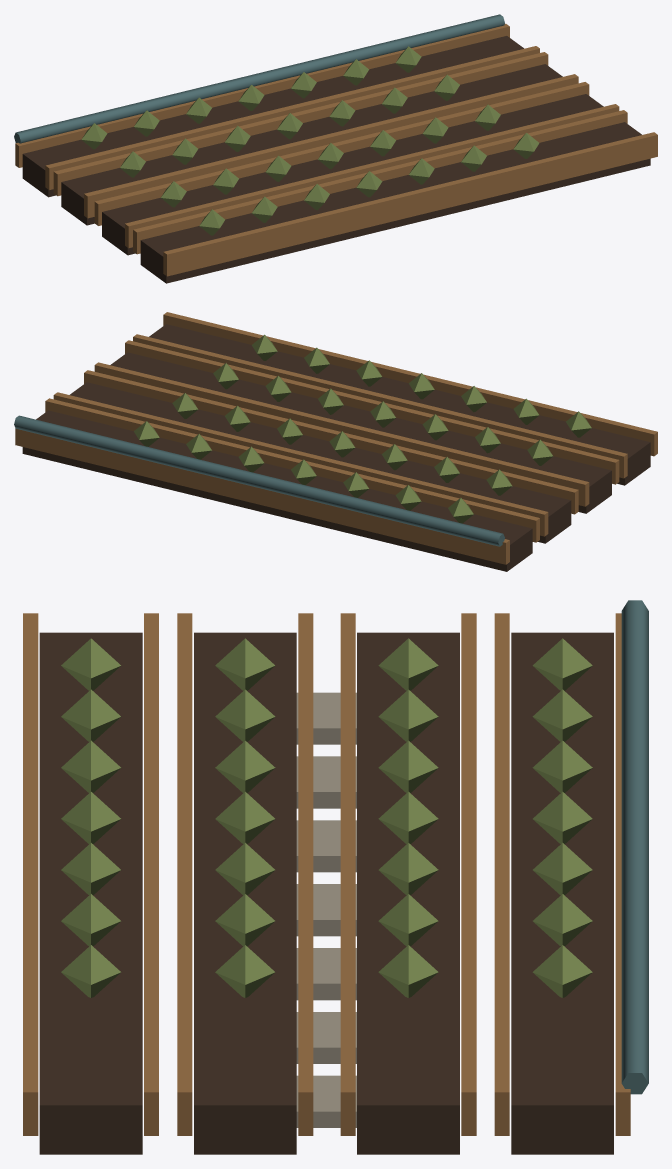
Rendered from herb-garden.source.glb.
3 renders of one model, top to bottom at view 1: azimuth 30°, elevation 25°; view 2: azimuth 150°, elevation 25°; view 3: azimuth 270°, elevation 25°, orthographic. The views are drawn at different scales.
Parts seen in each view (by area): view 1: herb-garden-edge-0.78-0.2-mesh, herb-garden-bed-0.78-mesh, herb-garden-bed--0.78-mesh, herb-garden-bed--0.27-mesh, herb-garden-bed-0.27-mesh, herb-garden-header-mesh, herb-garden-edge--0.27-0.2-mesh, herb-garden-edge--0.27--0.2-mesh, herb-garden-edge-0.27--0.2-mesh, herb-garden-edge-0.78--0.2-mesh, herb-garden-edge--0.78--0.2-mesh, herb-garden-edge--0.78-0.2-mesh (+3 smaller); view 2: herb-garden-bed--0.78-mesh, herb-garden-edge--0.78--0.2-mesh, herb-garden-bed-0.78-mesh, herb-garden-bed--0.27-mesh, herb-garden-bed-0.27-mesh, herb-garden-header-mesh, herb-garden-edge-0.27--0.2-mesh, herb-garden-edge--0.78-0.2-mesh, herb-garden-edge--0.27-0.2-mesh, herb-garden-edge-0.27-0.2-mesh, herb-garden-edge-0.78-0.2-mesh, herb-garden-edge--0.27--0.2-mesh (+29 smaller); view 3: herb-garden-bed-0.78-mesh, herb-garden-bed--0.78-mesh, herb-garden-bed-0.27-mesh, herb-garden-bed--0.27-mesh, herb-garden-header-mesh, herb-garden-edge--0.78-0.2-mesh, herb-garden-edge--0.27--0.2-mesh, herb-garden-edge--0.27-0.2-mesh, herb-garden-edge-0.27--0.2-mesh, herb-garden-edge-0.27-0.2-mesh, herb-garden-edge-0.78-0.2-mesh, herb-garden-edge-0.78--0.2-mesh (+36 smaller).
Part boxes in pixels (x1,y1,x2,y2): herb-garden-edge-0.78-0.2-mesh: [163, 132, 657, 276]; herb-garden-bed-0.78-mesh: [140, 122, 650, 283]; herb-garden-bed--0.78-mesh: [22, 36, 523, 197]; herb-garden-bed--0.27-mesh: [61, 64, 562, 225]; herb-garden-bed-0.27-mesh: [102, 94, 603, 255]; herb-garden-header-mesh: [14, 14, 504, 143]; herb-garden-edge--0.27-0.2-mesh: [84, 74, 578, 218]; herb-garden-edge--0.27--0.2-mesh: [53, 52, 548, 196]; herb-garden-edge-0.27--0.2-mesh: [94, 82, 589, 225]; herb-garden-edge-0.78--0.2-mesh: [133, 110, 627, 254]; herb-garden-edge--0.78--0.2-mesh: [15, 23, 509, 167]; herb-garden-edge--0.78-0.2-mesh: [45, 46, 539, 190]; herb-garden-bed--0.78-mesh: [22, 410, 532, 571]; herb-garden-edge--0.78--0.2-mesh: [15, 428, 509, 564]; herb-garden-bed-0.78-mesh: [149, 324, 650, 485]; herb-garden-bed--0.27-mesh: [70, 382, 571, 543]; herb-garden-bed-0.27-mesh: [110, 352, 611, 513]; herb-garden-header-mesh: [14, 415, 504, 546]; herb-garden-edge-0.27--0.2-mesh: [94, 362, 589, 506]; herb-garden-edge--0.78-0.2-mesh: [45, 398, 539, 542]; herb-garden-edge--0.27-0.2-mesh: [84, 370, 578, 514]; herb-garden-edge-0.27-0.2-mesh: [125, 340, 619, 484]; herb-garden-edge-0.78-0.2-mesh: [163, 312, 657, 456]; herb-garden-edge--0.27--0.2-mesh: [53, 392, 548, 536]; herb-garden-bed-0.78-mesh: [39, 632, 142, 1154]; herb-garden-bed--0.78-mesh: [511, 632, 613, 1154]; herb-garden-bed-0.27-mesh: [194, 632, 296, 1154]; herb-garden-bed--0.27-mesh: [357, 632, 459, 1154]; herb-garden-header-mesh: [621, 600, 648, 1094]; herb-garden-edge--0.78-0.2-mesh: [494, 613, 509, 1135]; herb-garden-edge--0.27--0.2-mesh: [461, 613, 476, 1135]; herb-garden-edge--0.27-0.2-mesh: [340, 613, 355, 1135]; herb-garden-edge-0.27--0.2-mesh: [298, 613, 313, 1135]; herb-garden-edge-0.27-0.2-mesh: [177, 613, 192, 1135]; herb-garden-edge-0.78-0.2-mesh: [23, 613, 38, 1135]; herb-garden-edge-0.78--0.2-mesh: [144, 613, 158, 1135].
Size of the model in its own units: 3.75 by 0.37 by 2.07.
